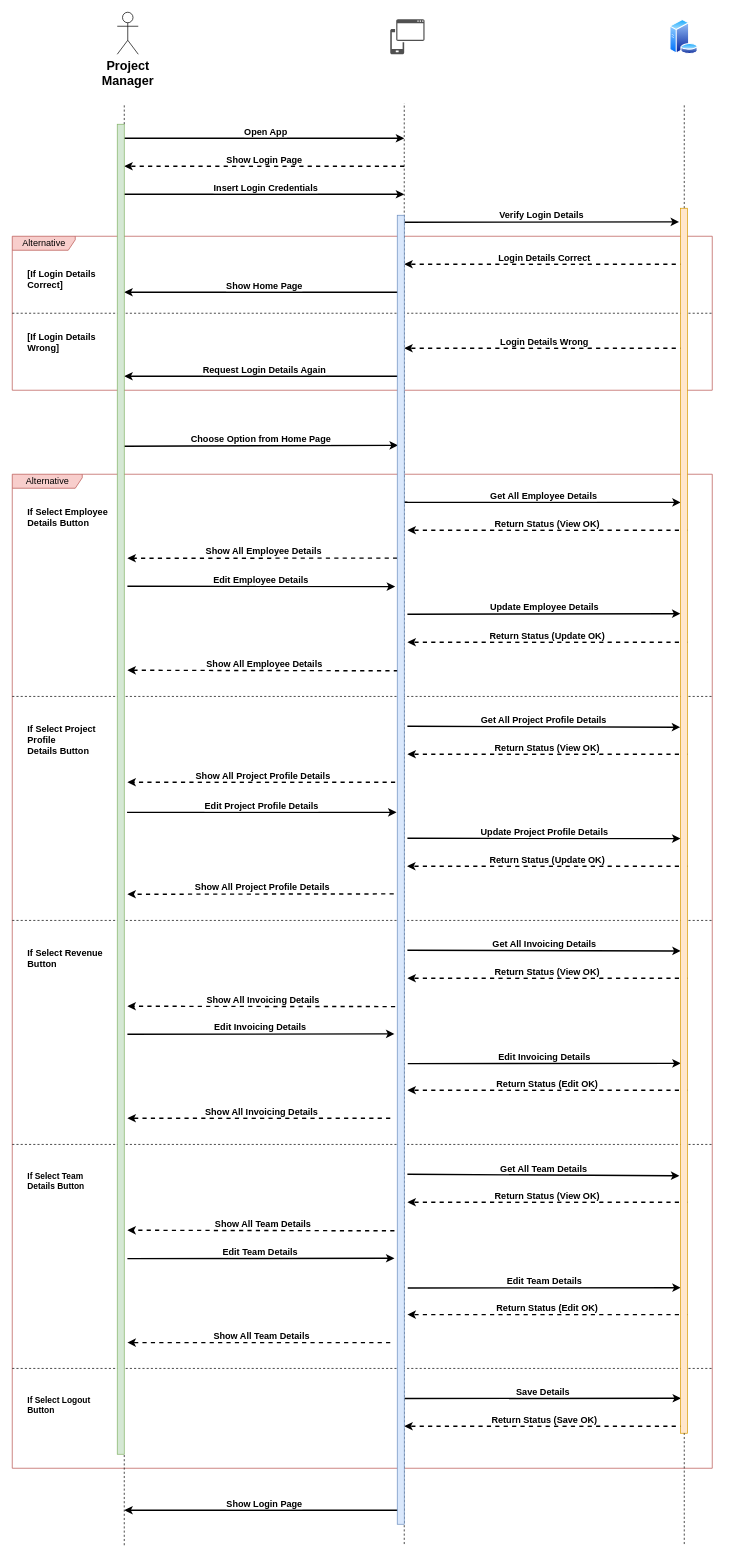
The diagram is 746 pixels wide and 1558 high, and some of its shapes have lost their labels. The shapes that lost their labels are listed below. From the top down, each one's centre as x and y in pixels, then its label:
At pixel 407 36: "E-Solutions System".
At pixel 683 36: "E-Solutions Database Server".
